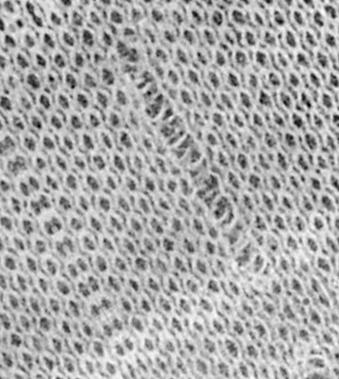slub: (114, 31, 281, 283)
